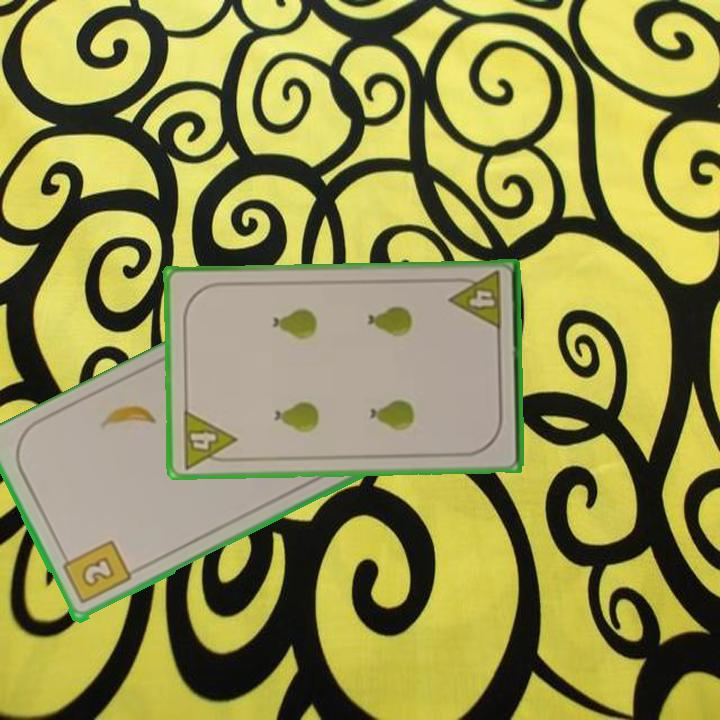2b: (58, 537, 134, 607)
4p: (179, 406, 239, 471), (446, 268, 504, 333)
